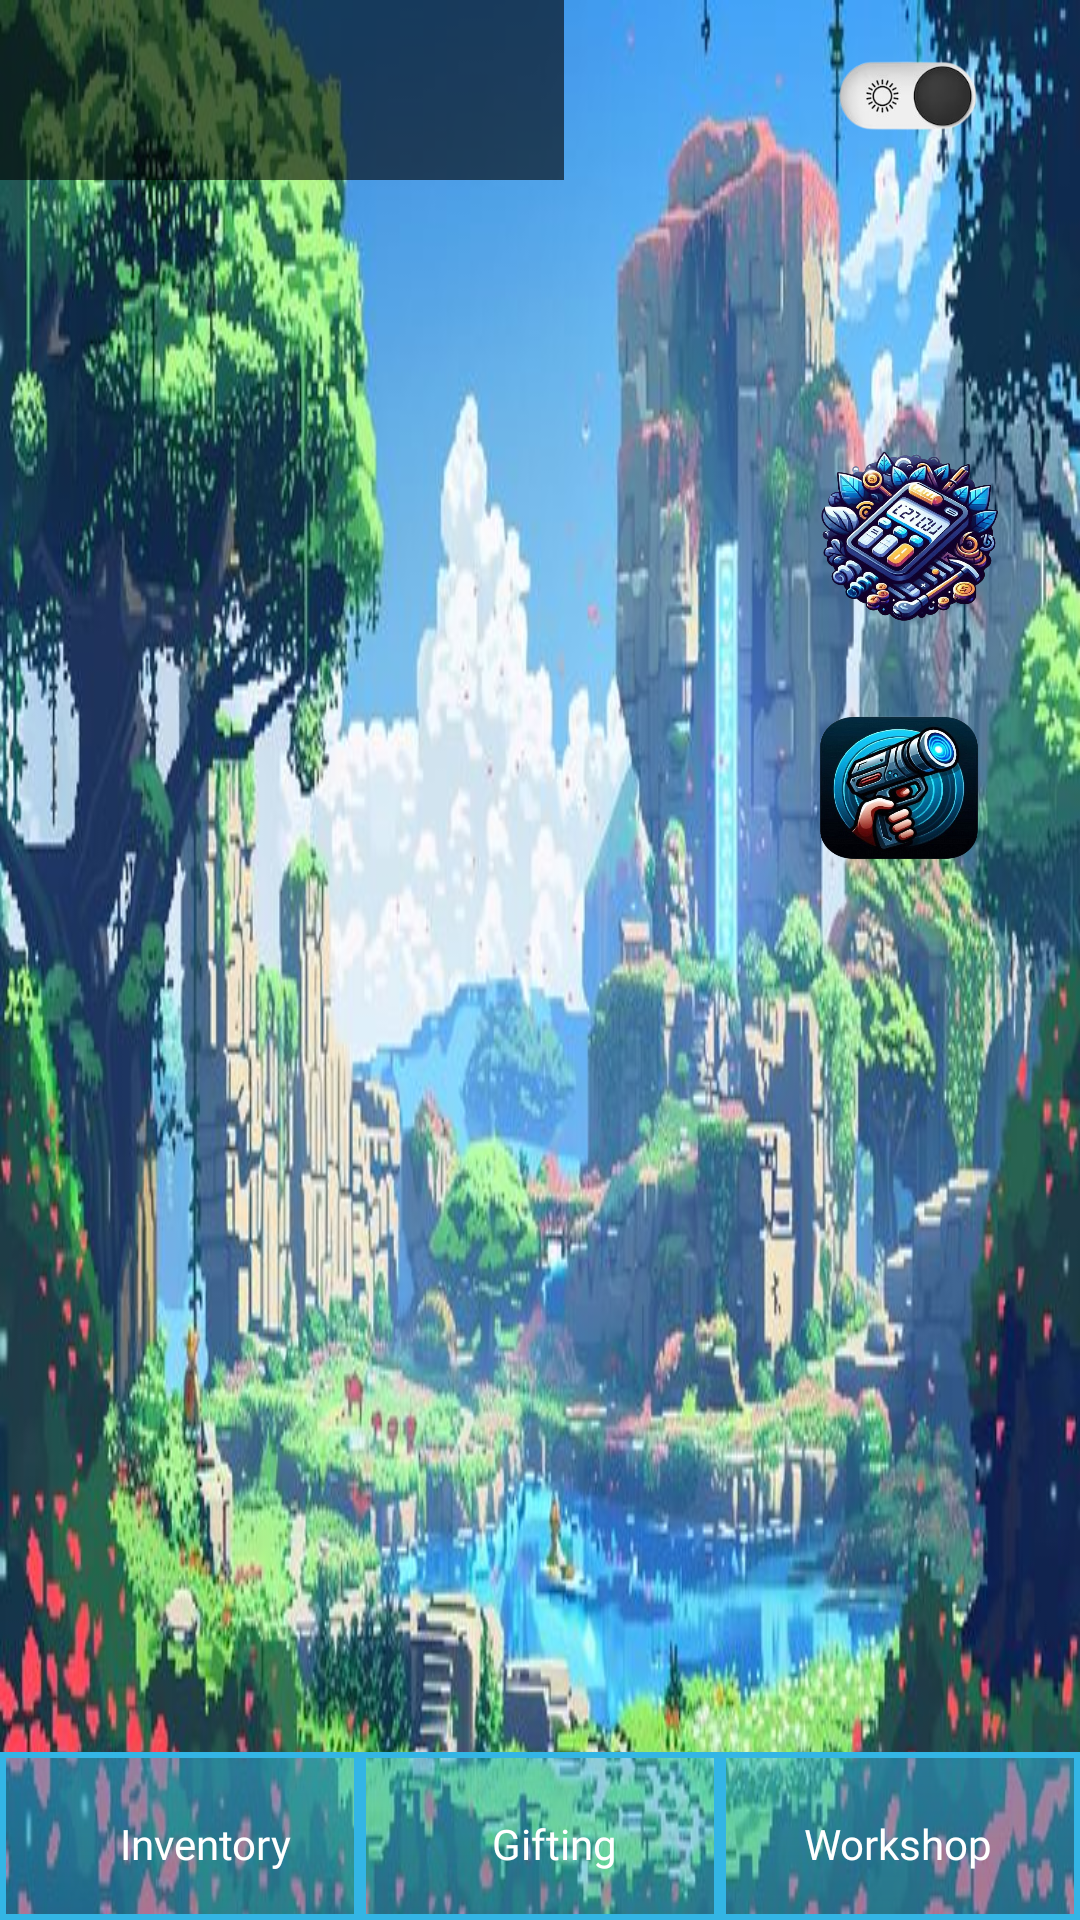

Point at icon controls on the screen. Image size 1080 × 1920, points as (x=x, y=y).
mode: (x=909, y=96)
